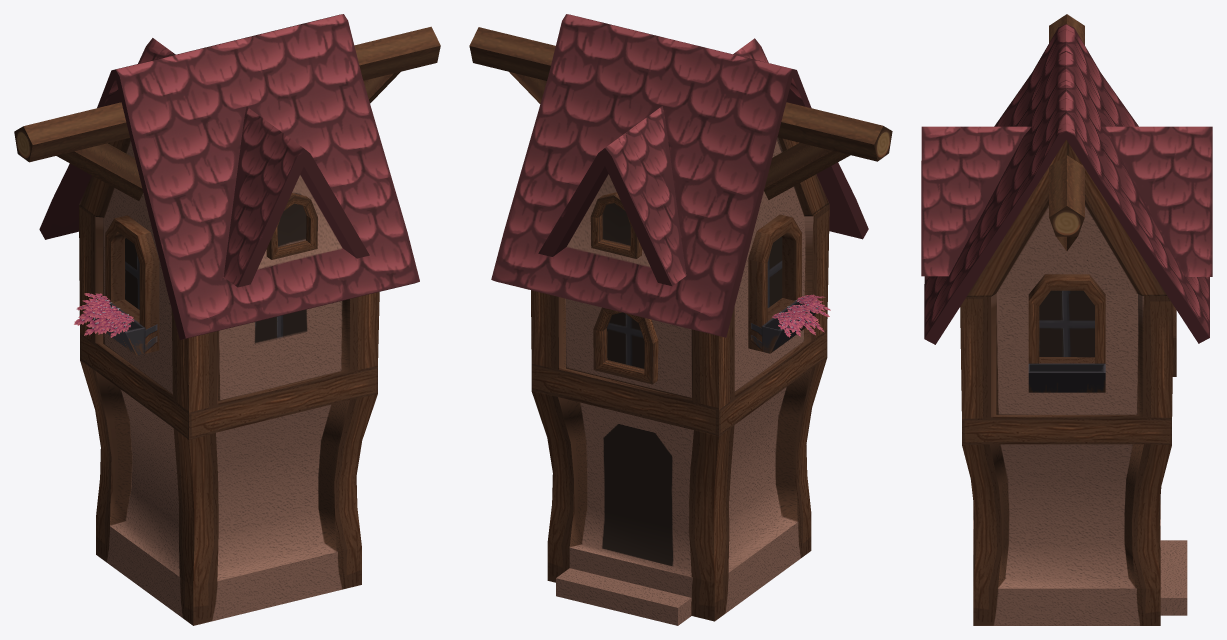
The model's file is House7Replacement.obj.
The picture shows the model from 3 angles, left to right: view 1: azimuth 30°, elevation 25°; view 2: azimuth 150°, elevation 25°; view 3: azimuth 270°, elevation 25°; orthographic projection. The views are drawn at different scales.
Parts seen in each view (by area): view 1: HouseMesh7Replacement; view 2: HouseMesh7Replacement; view 3: HouseMesh7Replacement.
Boxes of the visible parts, box(x1,y1,x2,y2) form: HouseMesh7Replacement: box(14, 14, 440, 625); HouseMesh7Replacement: box(469, 14, 892, 625); HouseMesh7Replacement: box(921, 14, 1212, 625).
Bounding box in the file's own units: 42.36 × 52.39 × 27.2.
